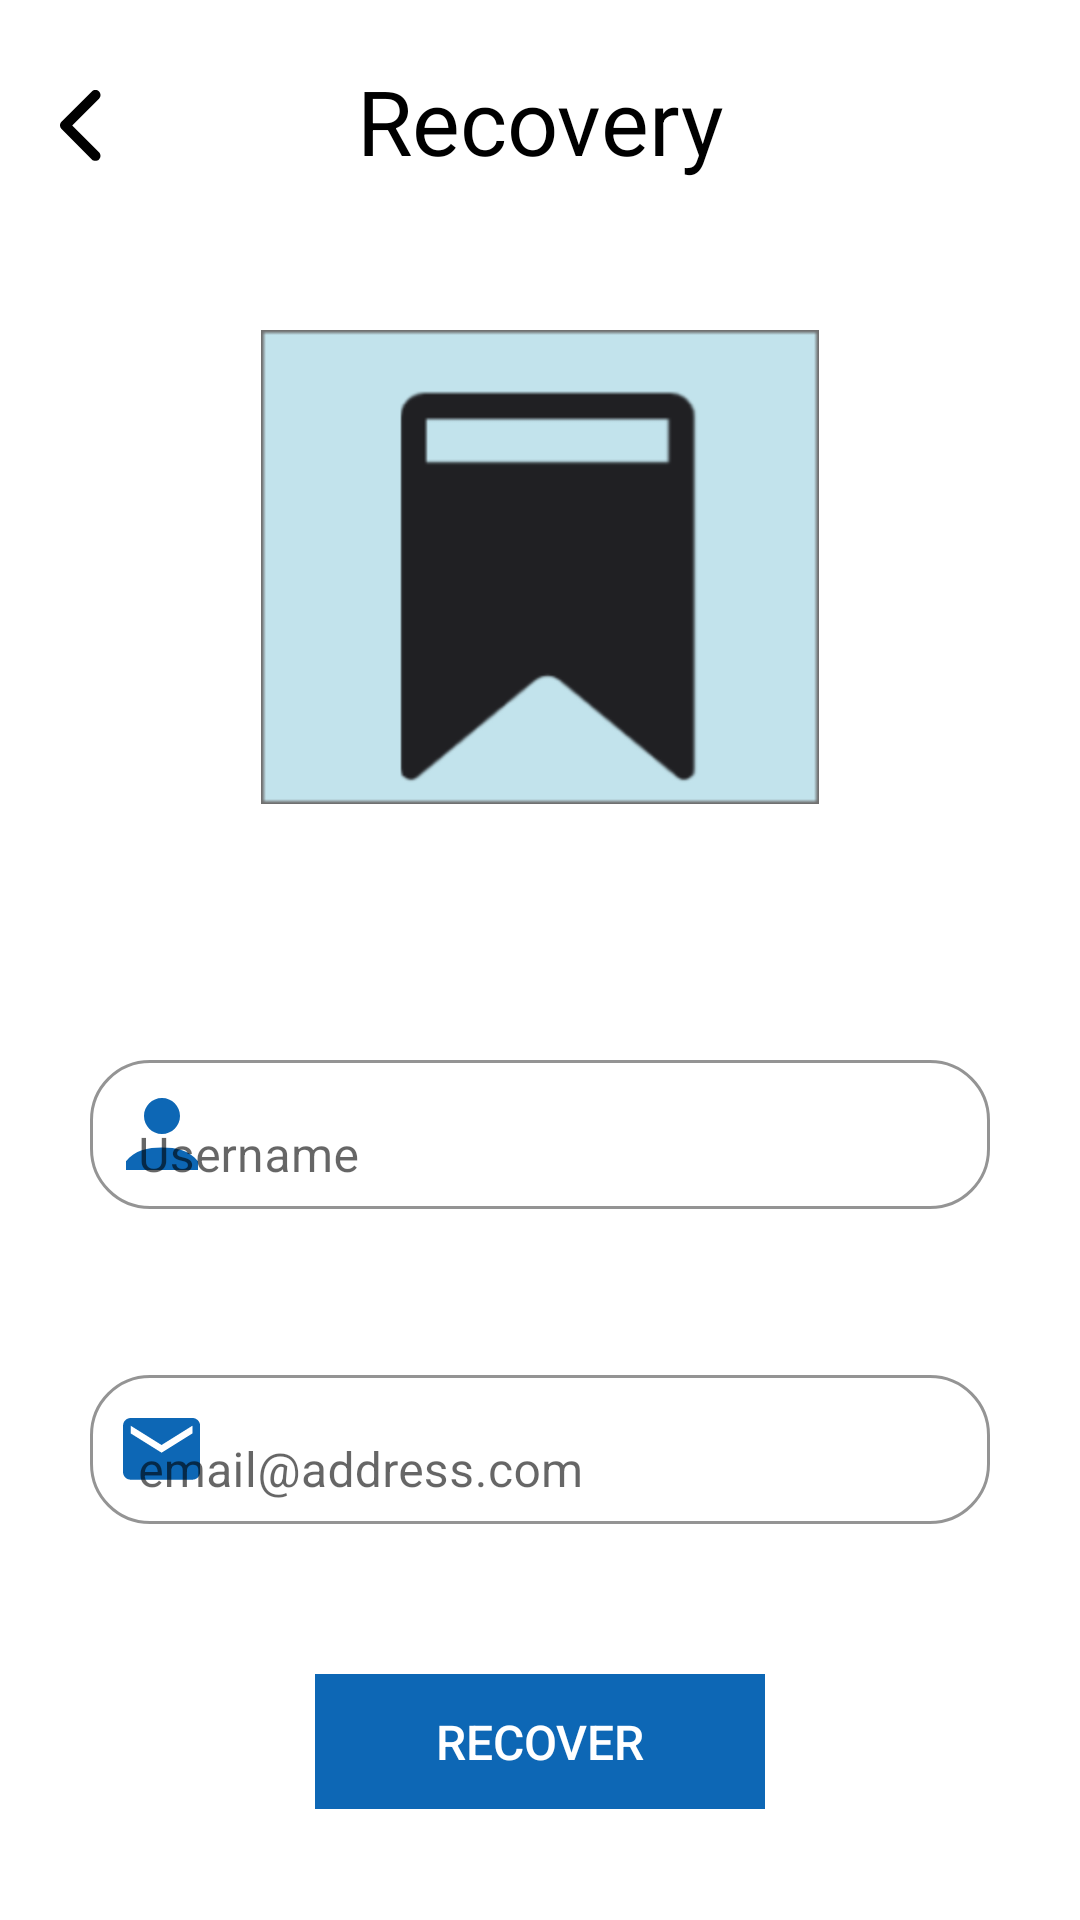

Named icons in this screenshot (1080px×1920px) and their bounding boxes, detection(x1, y1, x2, y2):
back: detection(60, 90, 101, 161)
